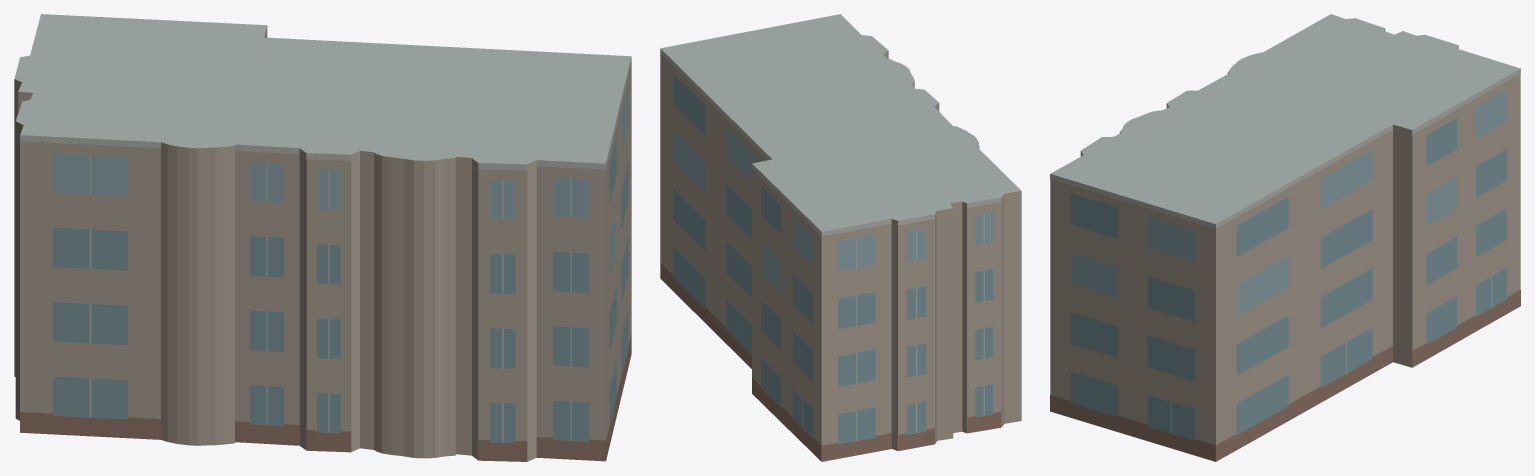
Rendered from survey-upis-32630881.glb.
3 renders of one model, left to right at view 1: azimuth 30°, elevation 25°; view 2: azimuth 150°, elevation 25°; view 3: azimuth 270°, elevation 25°, orthographic. The views are drawn at different scales.
Visible parts, largest first — view 1: survey-upis-32630881.tmp; view 2: survey-upis-32630881.tmp; view 3: survey-upis-32630881.tmp.
Boxes of the visible parts, x1=… form: survey-upis-32630881.tmp: x1=14, y1=14, x2=631, y2=461; survey-upis-32630881.tmp: x1=660, y1=14, x2=1021, y2=461; survey-upis-32630881.tmp: x1=1050, y1=14, x2=1520, y2=461.
Size of the model in its own units: 22.2 by 11.7 by 21.
